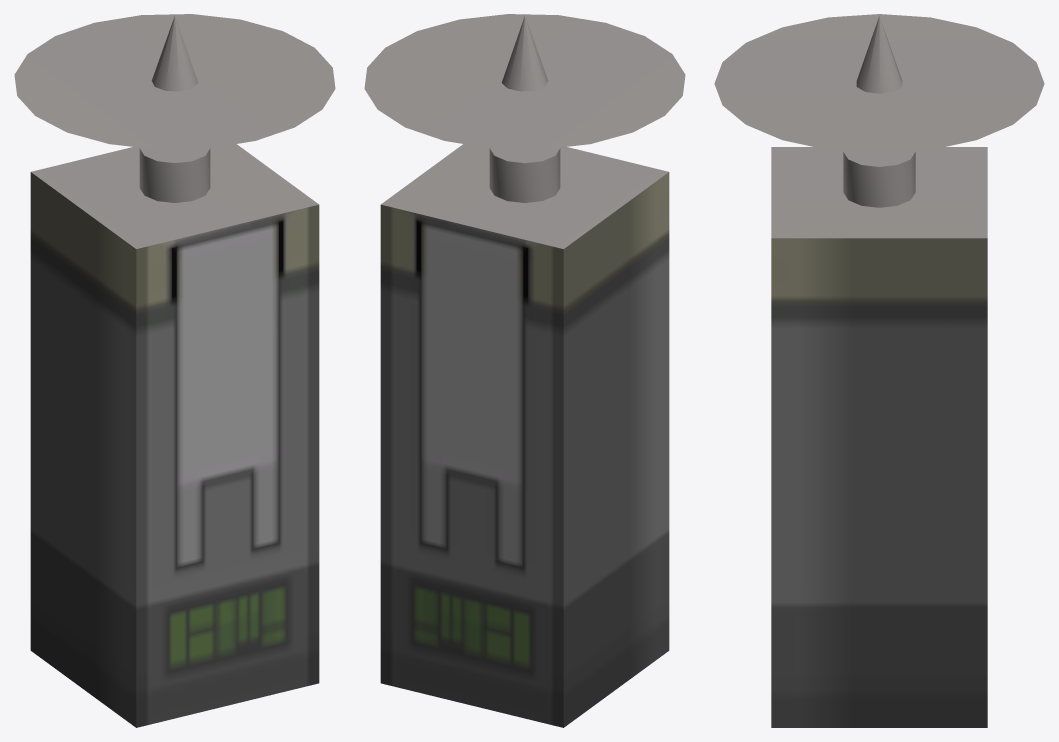
Rendered from Building_ElectricInhibitor.obj.
3 views of the same model, side by side, from view 1: azimuth 30°, elevation 25°; view 2: azimuth 150°, elevation 25°; view 3: azimuth 270°, elevation 25° (orthographic). The views are drawn at different scales.
Parts seen in each view (by area): view 1: Body; view 2: Body; view 3: Body.
Part boxes in pixels (box(x1,y1,x2,y2)): Body: box(14, 14, 335, 727); Body: box(364, 14, 685, 727); Body: box(714, 14, 1044, 727).
Bounding box in the file's own units: 1.1 × 2.45 × 1.1.
1 material, 1 textured.
